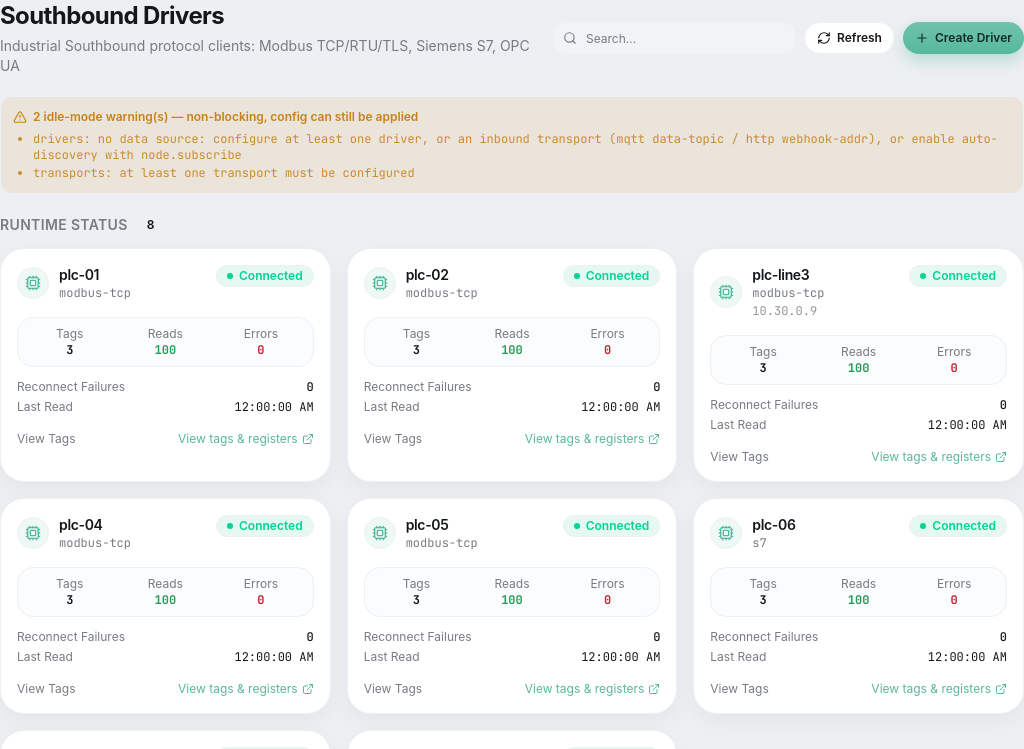
Test: page-header search covers both zones › DriversPage: filters runtime cards by name and shows the no-results state
Expected: the heading "plc-01" is shown, [59,266,99,283]
Type "plc-line3" into the field with placeholder "Search...".
click(674, 38); type("plc-line3")  # box [553,22,796,54]
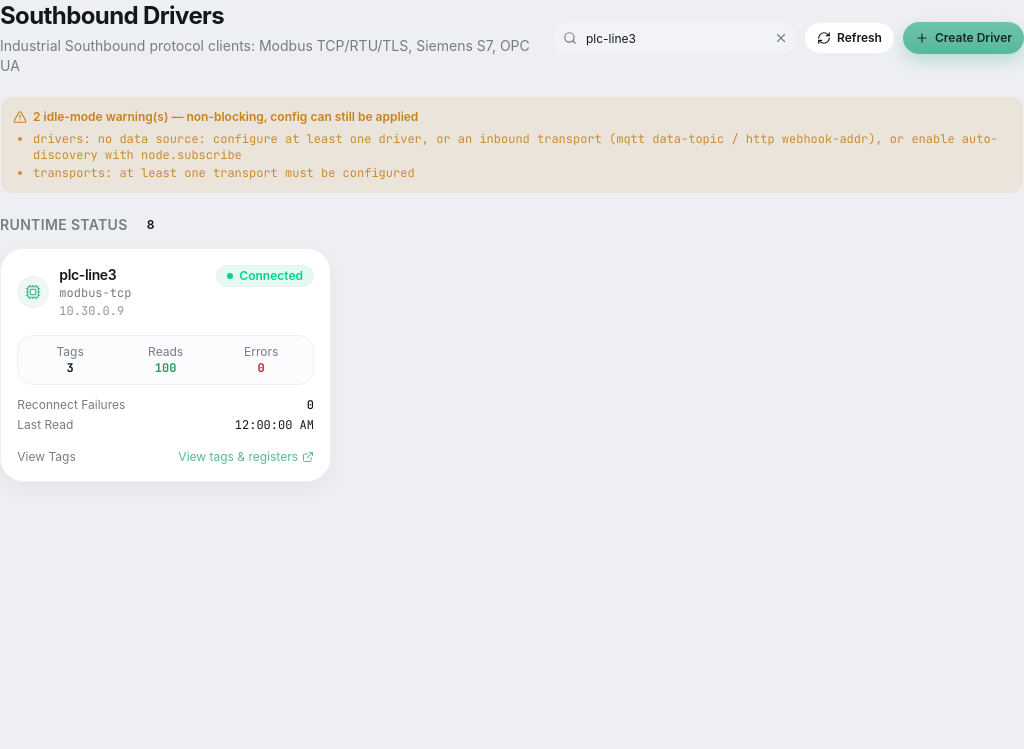
Expected: the heading "plc-line3" is shown, [59,266,116,283]
Expected: the button "plc-01" is gone
No match → an explicit no-results card, not a blank zone.
Replace the text in the field with placeholder "Search..." with "zzz" at (674,38), box [553,22,796,54]
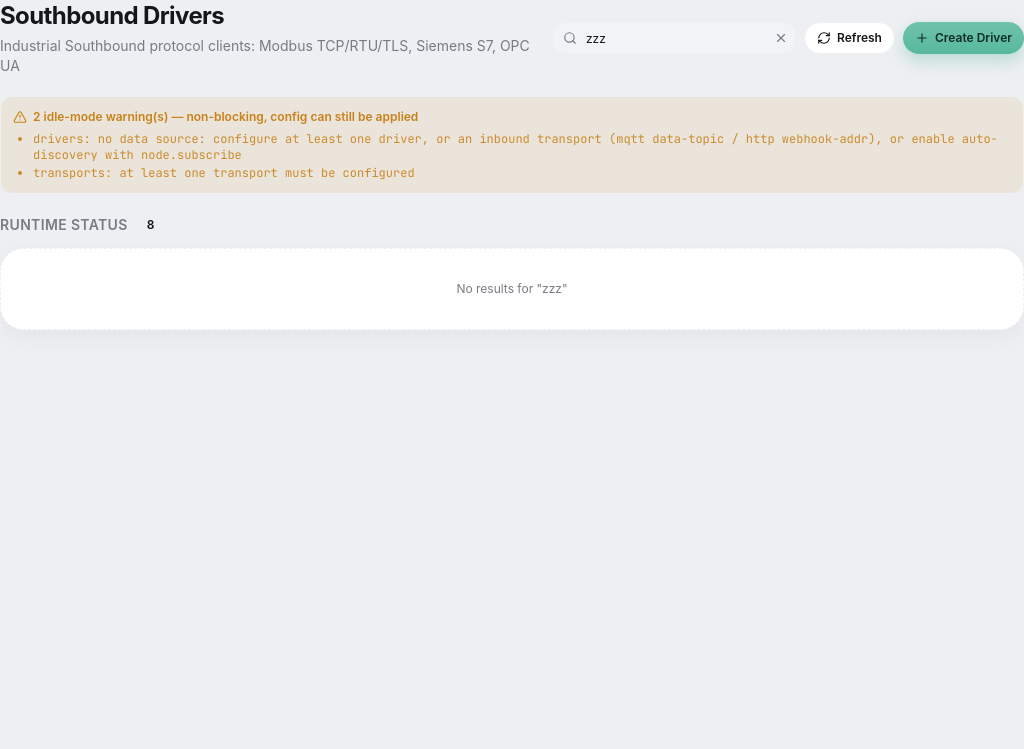
Expected: the text "No results for \"zzz\"" is shown, [0,248,1023,330]
